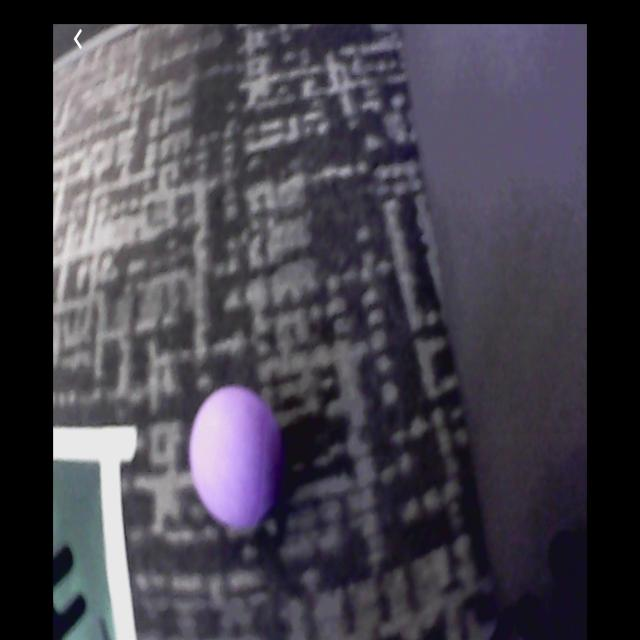ball: (186, 388, 291, 533)
